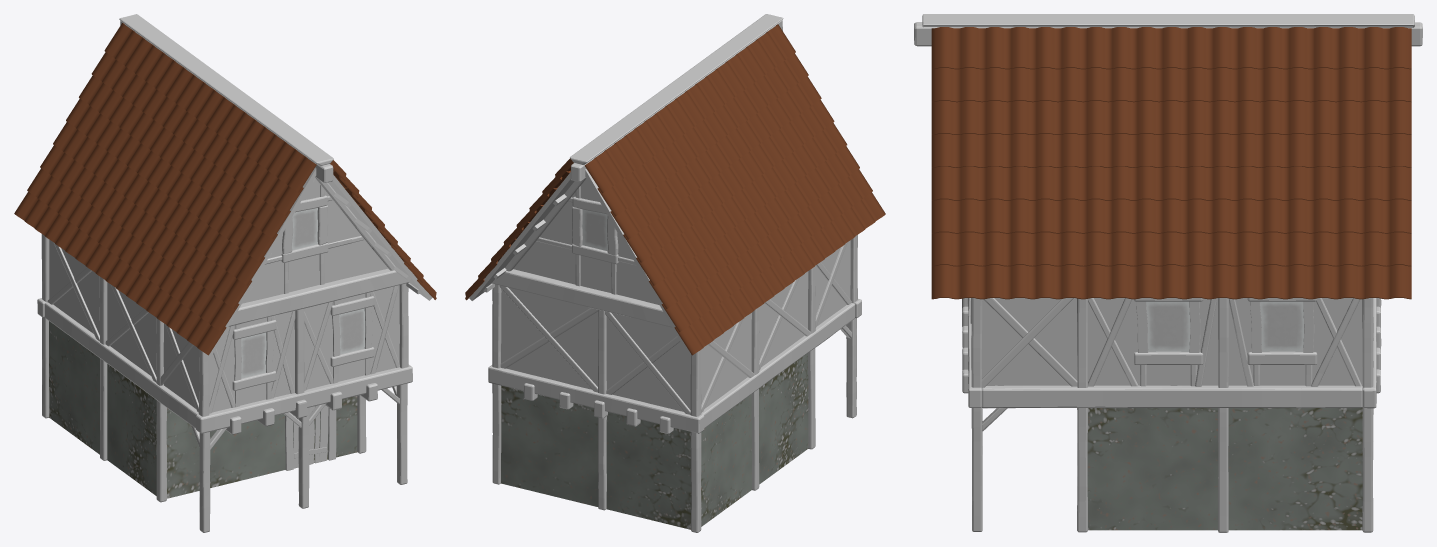
File: uploads_files_2612585_House#1ExportVersion.obj
3 renders of one model, left to right at view 1: azimuth 30°, elevation 25°; view 2: azimuth 150°, elevation 25°; view 3: azimuth 270°, elevation 25°, orthographic. The views are drawn at different scales.
Parts seen in each view (by area): view 1: Roof_Plane.002, Wooden_Carcass_Plane.001, Walls_Plane.004, Cobblestone_Foundation_Plane.006, WindowFrames+Door_Cube.020, GlassPanes_Plane.003; view 2: Roof_Plane.002, Wooden_Carcass_Plane.001, Cobblestone_Foundation_Plane.006, Walls_Plane.004, WindowFrames+Door_Cube.020, GlassPanes_Plane.003; view 3: Roof_Plane.002, Wooden_Carcass_Plane.001, Cobblestone_Foundation_Plane.006, Walls_Plane.004, WindowFrames+Door_Cube.020, GlassPanes_Plane.003.
Boxes of the visible parts, box(x1,y1,x2,y2) form: Roof_Plane.002: box(14, 23, 436, 355); Wooden_Carcass_Plane.001: box(37, 14, 421, 532); Walls_Plane.004: box(49, 167, 432, 412); Cobblestone_Foundation_Plane.006: box(49, 321, 357, 498); WindowFrames+Door_Cube.020: box(232, 195, 374, 470); GlassPanes_Plane.003: box(241, 208, 365, 378); Roof_Plane.002: box(465, 24, 885, 355); Wooden_Carcass_Plane.001: box(483, 14, 861, 532); Cobblestone_Foundation_Plane.006: box(501, 353, 808, 529); Walls_Plane.004: box(469, 169, 850, 411); WindowFrames+Door_Cube.020: box(572, 196, 618, 264); GlassPanes_Plane.003: box(582, 209, 607, 251); Roof_Plane.002: box(931, 27, 1411, 299); Wooden_Carcass_Plane.001: box(914, 14, 1422, 532); Cobblestone_Foundation_Plane.006: box(1087, 407, 1362, 530); Walls_Plane.004: box(982, 298, 1362, 385); WindowFrames+Door_Cube.020: box(1134, 298, 1317, 364); GlassPanes_Plane.003: box(1146, 301, 1303, 351).
Bounding box in the file's own units: 4.82 × 7.08 × 7.22.
